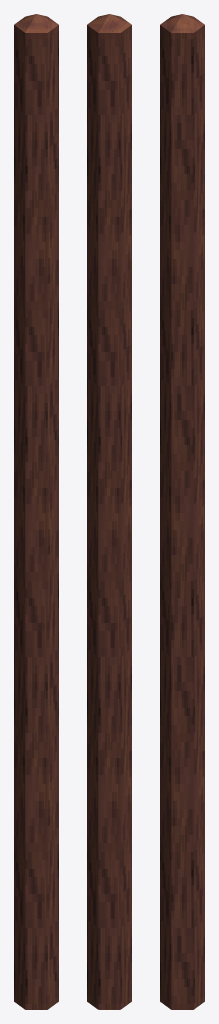
Rendered from TelephonePole.glb.
The picture shows the model from 3 angles, left to right: view 1: azimuth 90°, elevation 25°; view 2: azimuth 150°, elevation 25°; view 3: azimuth 270°, elevation 25°; orthographic projection.
Visible parts, largest first — view 1: Cylinder; view 2: Cylinder; view 3: Cylinder.
Part boxes in pixels (<box>): Cylinder: <box>14,14,58,1009</box>; Cylinder: <box>87,14,131,1009</box>; Cylinder: <box>160,14,204,1009</box>.
Bounding box in the file's own units: 3.37 × 95.39 × 3.9.
Materials: 1 (1 with a texture image).
